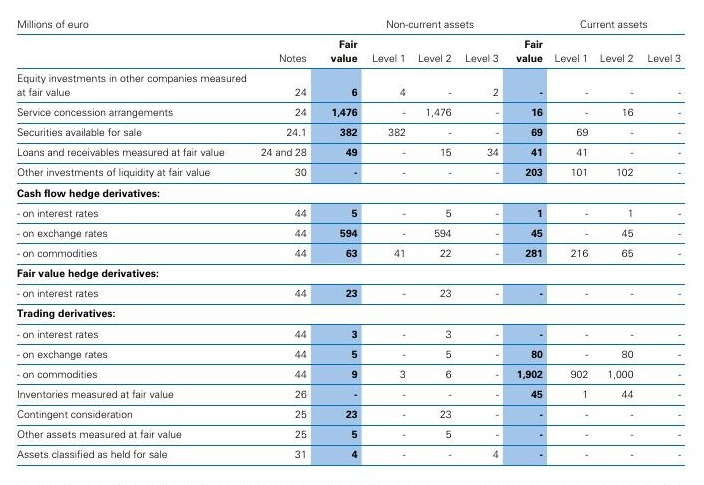table: (0, 0, 704, 485)
